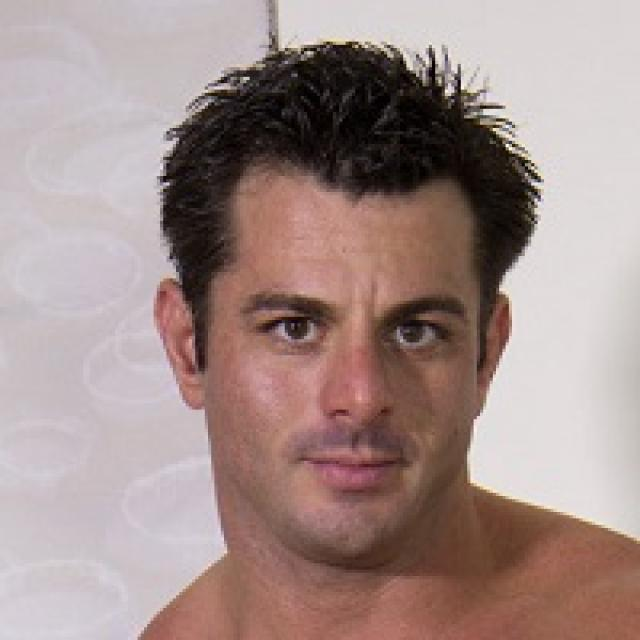human: (134, 29, 637, 640)
